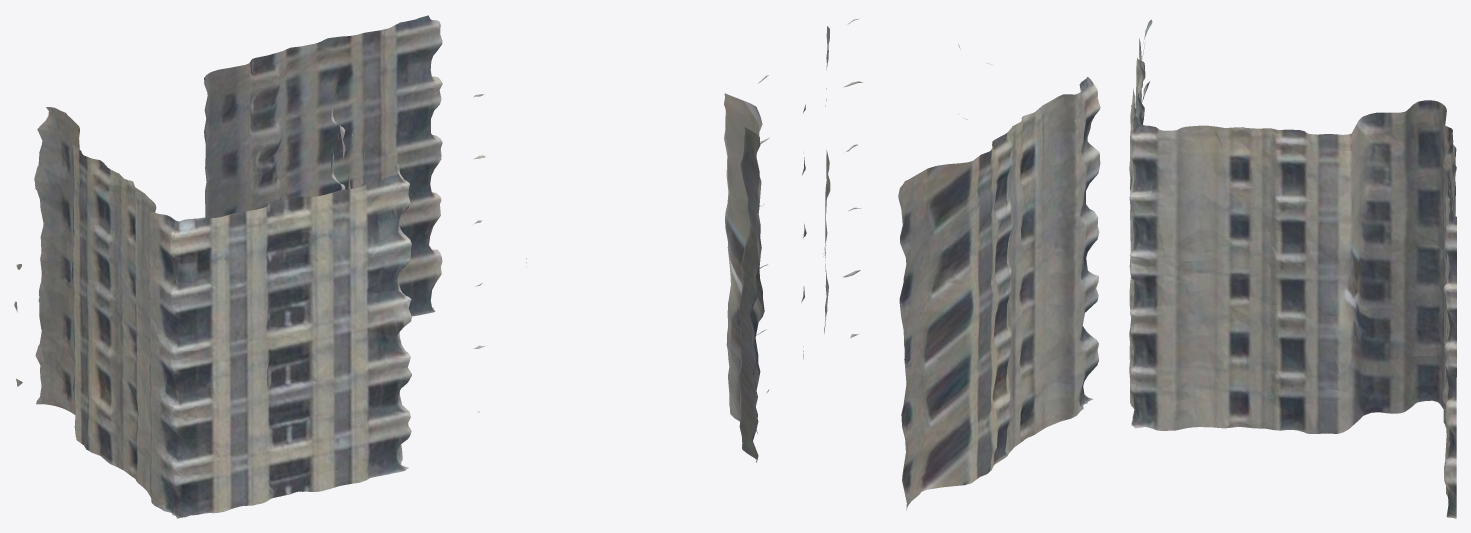
File: Tile_+004_+001_L22_00036200.glb
3 renders of one model, left to right at view 1: azimuth 30°, elevation 25°; view 2: azimuth 150°, elevation 25°; view 3: azimuth 270°, elevation 25°, orthographic. The views are drawn at different scales.
Parts seen in each view (by area): view 1: rtc; view 2: rtc; view 3: rtc.
Boxes of the visible parts, x1,y1,x2,y2 form: rtc: [14, 15, 442, 518]; rtc: [473, 18, 1100, 510]; rtc: [1129, 19, 1456, 518].
Bounding box in the file's own units: 17.07 × 11.32 × 11.24.
Materials: 1 (1 with a texture image).
